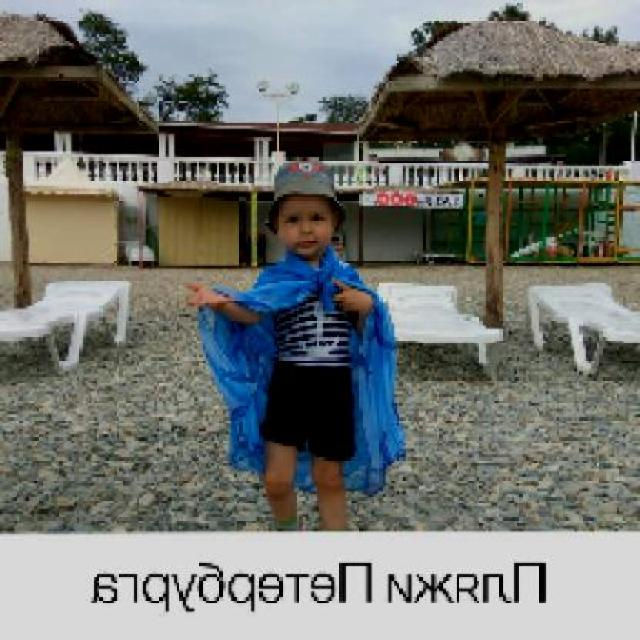child: (184, 159, 376, 532)
